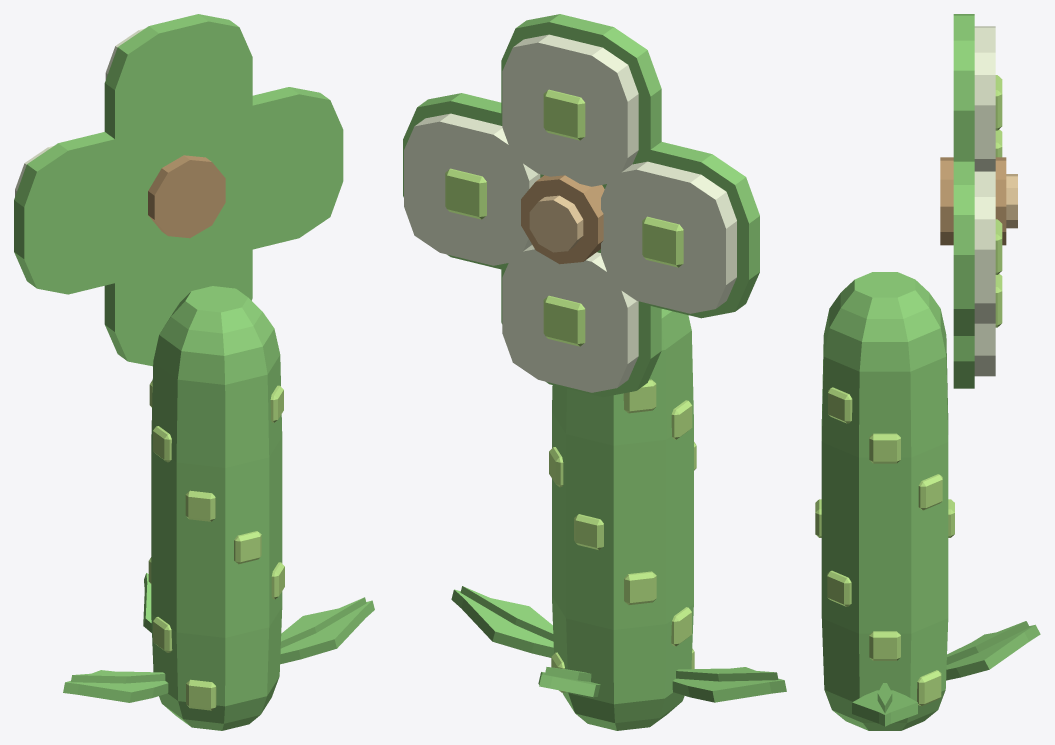
Rendered from FarmWindmillPlant.fbx.
The picture shows the model from 3 angles, left to right: view 1: azimuth 30°, elevation 25°; view 2: azimuth 150°, elevation 25°; view 3: azimuth 270°, elevation 25°; orthographic projection. The views are drawn at different scales.
Parts seen in each view (by area): view 1: FarmWindmillPlant.BladeBorders, FarmWindmillPlant.Stalk, FarmWindmillPlant.Leaves, FarmWindmillPlant.Hub, FarmWindmillPlant.Studs; view 2: FarmWindmillPlant.Blades, FarmWindmillPlant.Stalk, FarmWindmillPlant.BladeBorders, FarmWindmillPlant.Leaves, FarmWindmillPlant.BladeStuds, FarmWindmillPlant.Studs, FarmWindmillPlant.Hub, FarmWindmillPlant.HubCap; view 3: FarmWindmillPlant.Stalk, FarmWindmillPlant.BladeBorders, FarmWindmillPlant.Blades, FarmWindmillPlant.Studs, FarmWindmillPlant.Leaves, FarmWindmillPlant.Hub, FarmWindmillPlant.BladeStuds, FarmWindmillPlant.HubCap.
Part boxes in pixels (x1,y1,x2,y2): FarmWindmillPlant.BladeBorders: (14, 14, 343, 366); FarmWindmillPlant.Stalk: (151, 286, 282, 730); FarmWindmillPlant.Leaves: (63, 573, 374, 702); FarmWindmillPlant.Hub: (148, 155, 225, 238); FarmWindmillPlant.Studs: (148, 380, 284, 710); FarmWindmillPlant.Blades: (404, 34, 736, 392); FarmWindmillPlant.Stalk: (552, 309, 693, 730); FarmWindmillPlant.BladeBorders: (403, 14, 759, 397); FarmWindmillPlant.Leaves: (451, 586, 786, 702); FarmWindmillPlant.BladeStuds: (445, 89, 683, 346); FarmWindmillPlant.Studs: (549, 379, 696, 692); FarmWindmillPlant.Hub: (521, 175, 604, 264); FarmWindmillPlant.HubCap: (529, 195, 583, 252); FarmWindmillPlant.Stalk: (821, 272, 948, 730); FarmWindmillPlant.BladeBorders: (953, 14, 974, 388); FarmWindmillPlant.Blades: (974, 26, 995, 376); FarmWindmillPlant.Studs: (815, 387, 954, 706); FarmWindmillPlant.Leaves: (852, 621, 1040, 726); FarmWindmillPlant.Hub: (940, 157, 1006, 245); FarmWindmillPlant.BladeStuds: (995, 75, 1002, 327); FarmWindmillPlant.HubCap: (1006, 174, 1017, 228).
Size of the model in its own units: 2.9 by 5.75 by 1.71.
